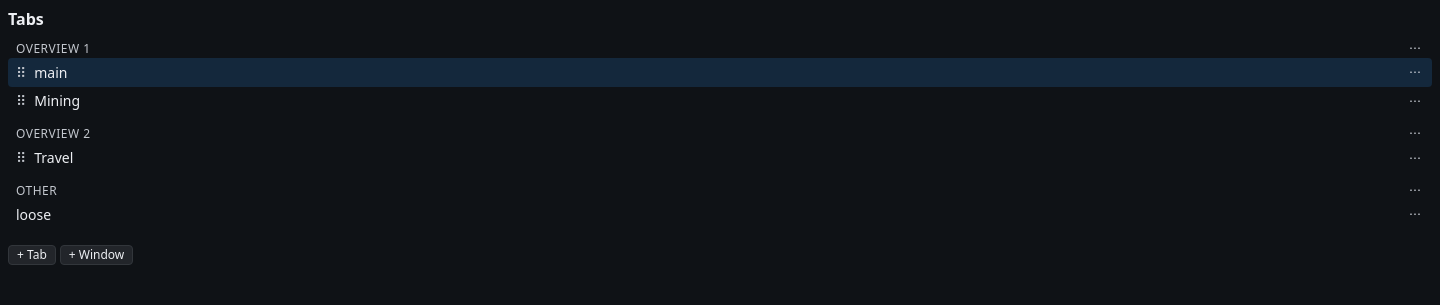
Test case: renaming in place › Escape cancels and writes nothing
The width and height of the screenshot is (1440, 305).
Click the button named "More actions": (1415, 101) [1406,91,1424,111]
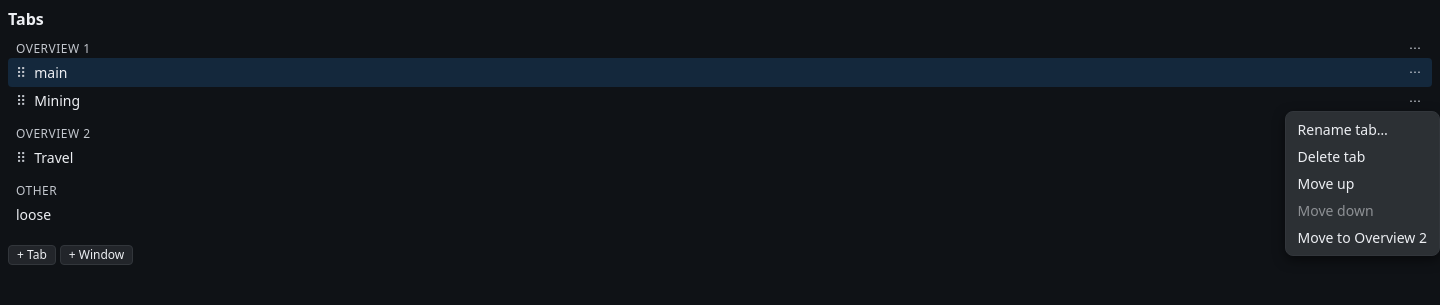
Click the menu item "Rename tab…": (1362, 130) [1290,116,1435,143]
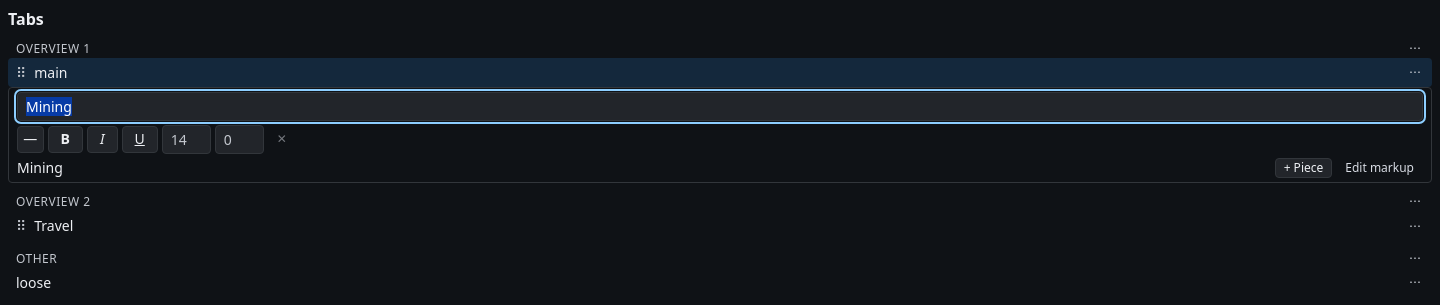
Replace the text in the field named "Piece 1 text" with "Ore": (720, 106) [17,92,1423,121]
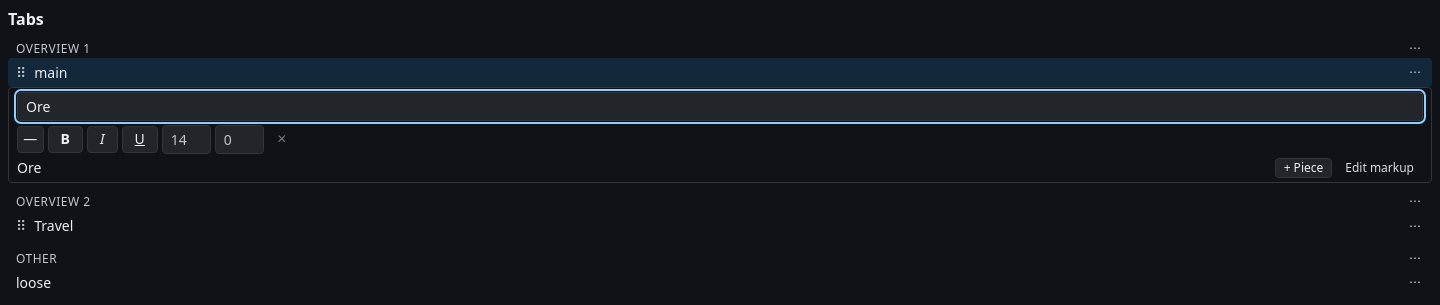
Press Escape in the field named "Piece 1 text", box [17,92,1423,121]
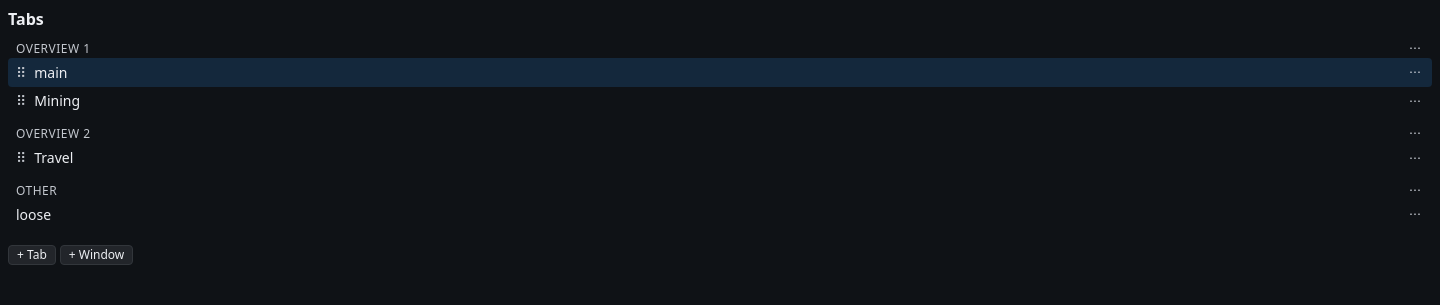
Check: the button "Mining" is shown, box [34,92,1398,110]
